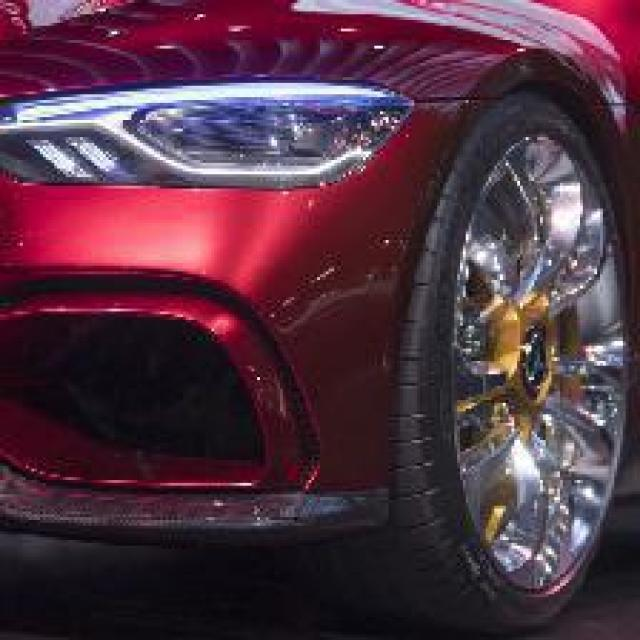damaged: (249, 252, 417, 448)
